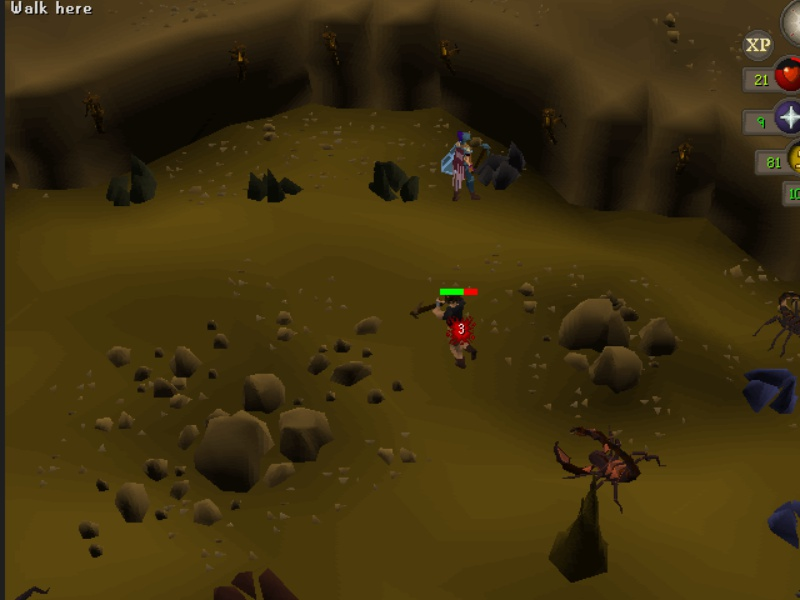coal: (102, 151, 162, 211), (366, 158, 422, 208), (244, 167, 307, 208)
iron: (211, 565, 300, 600)
mithril: (739, 364, 800, 419), (764, 497, 800, 555)
